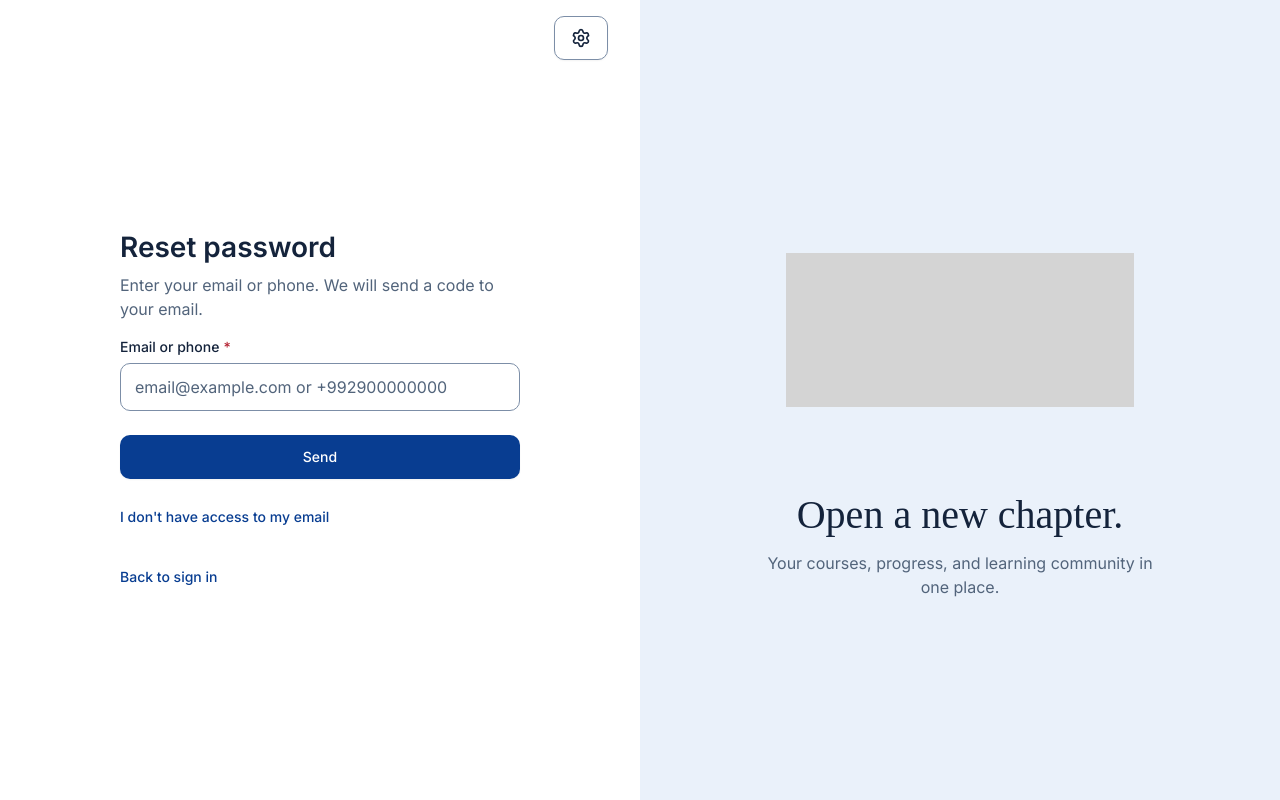
Scenario: ForgotPassword without access to email › shows a translated rate-limit error instead of the neutral message
Type "kid@example.com" into the field labelled "Email or phone*" at (320,387), box [120,363,520,411]
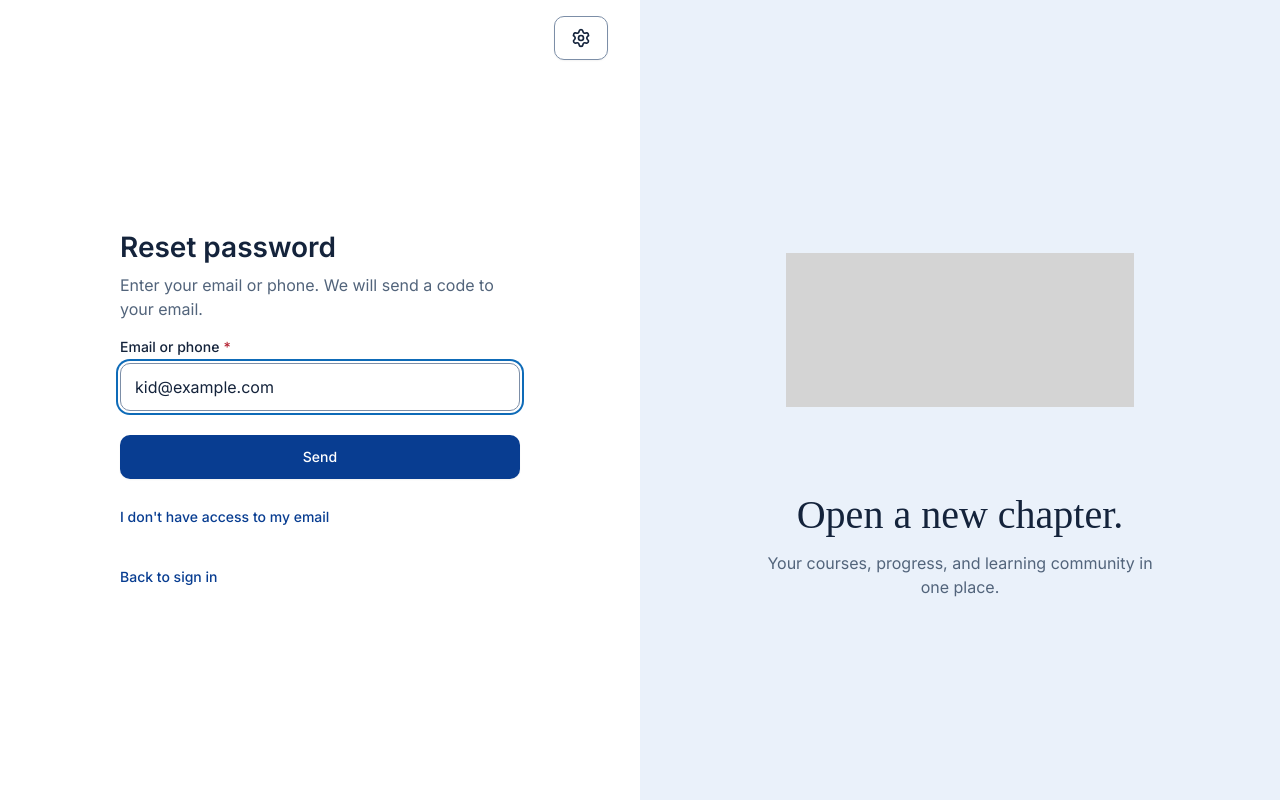
Click the button "Send" at (320,457), box [120,435,520,479]
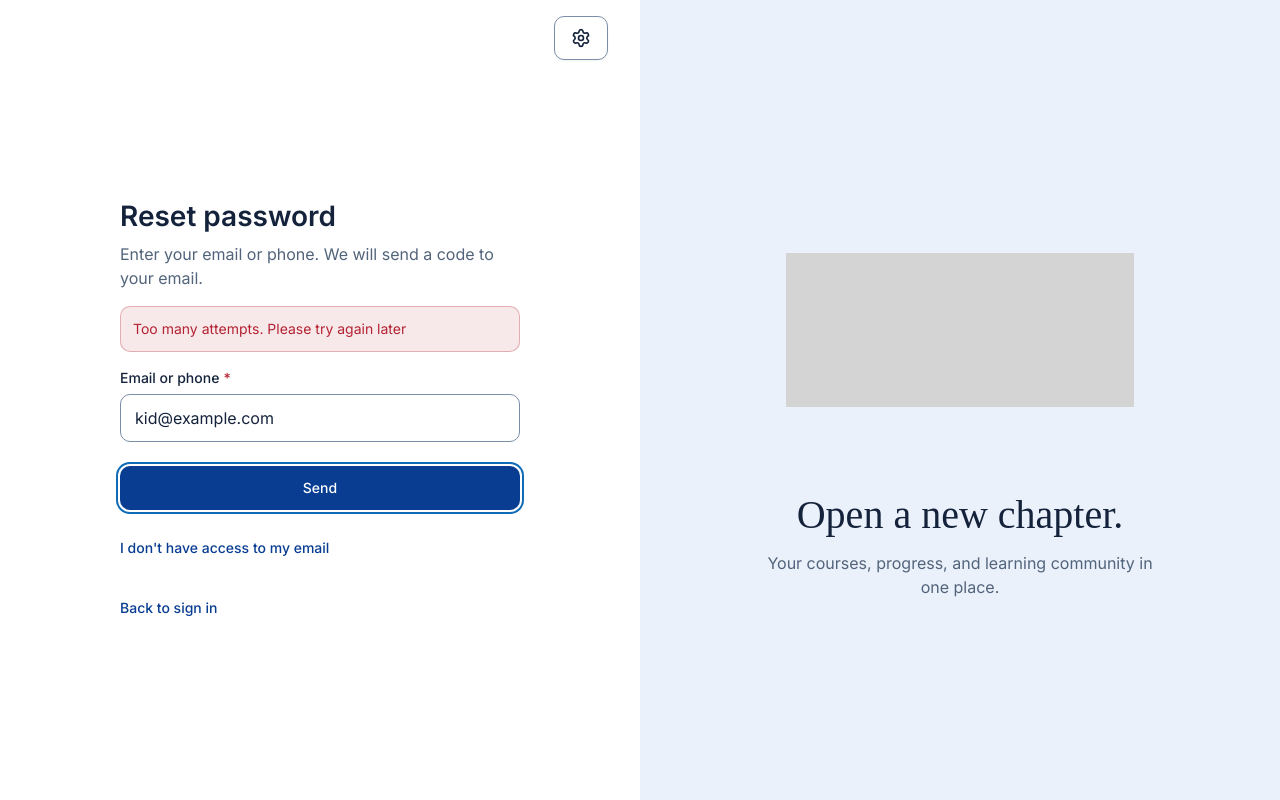
expect the message shows "Too many attempts": met, box [133,320,406,337]
